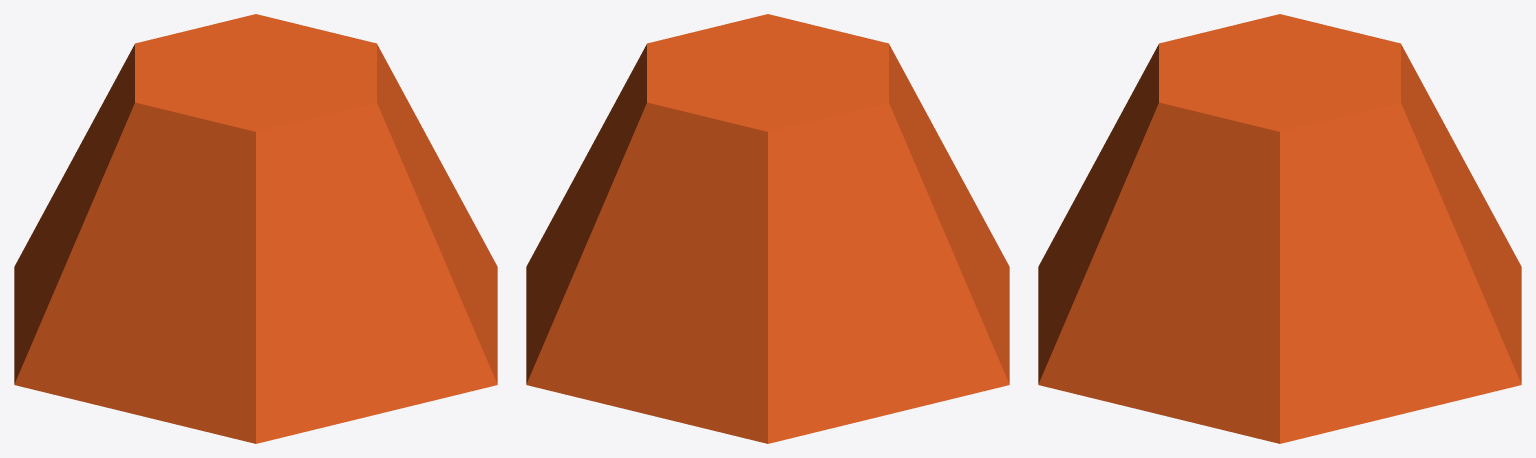
3 renders of one model, left to right at view 1: azimuth 30°, elevation 25°; view 2: azimuth 150°, elevation 25°; view 3: azimuth 270°, elevation 25°, orthographic.
Parts seen in each view (by area): view 1: Cone001; view 2: Cone001; view 3: Cone001.
Part boxes in pixels (box(x1,y1,x2,y2)): Cone001: box(14, 14, 497, 443); Cone001: box(526, 14, 1009, 443); Cone001: box(1038, 14, 1521, 443).
Bounding box in the file's own units: 4 × 2 × 3.46.
